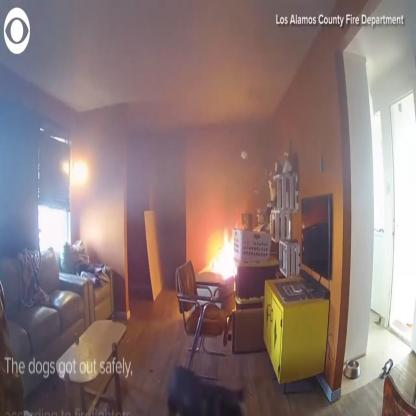fire: (208, 227, 238, 279)
